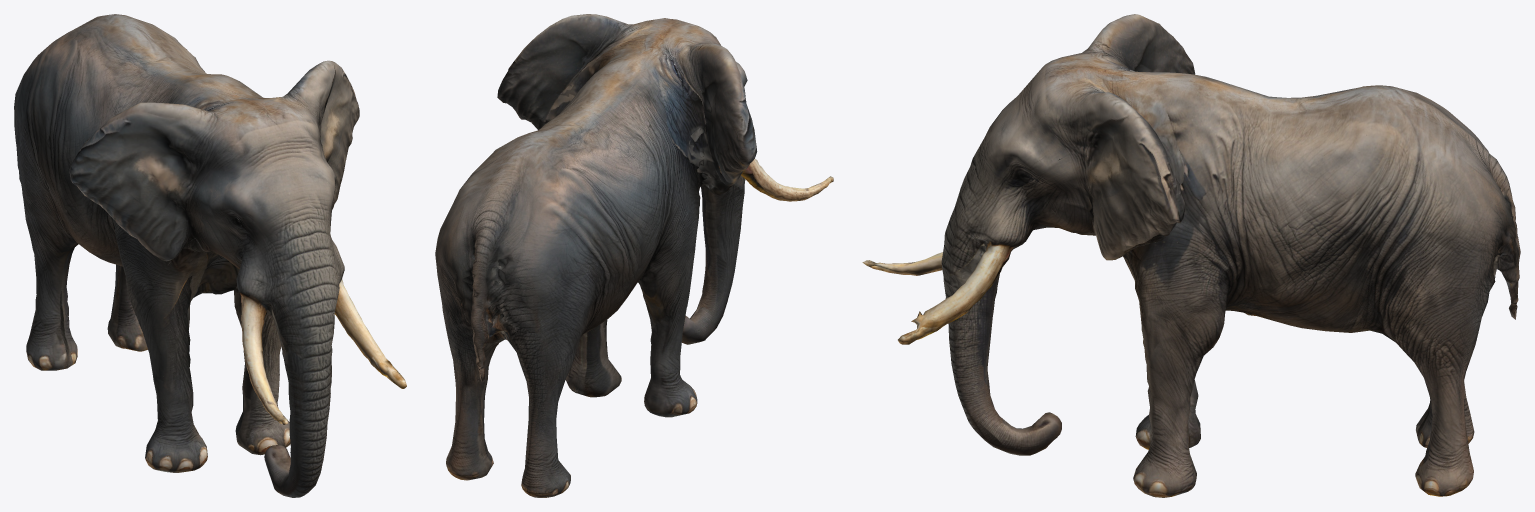
The model's file is eleph.glb.
3 views of the same model, side by side, from view 1: azimuth 30°, elevation 25°; view 2: azimuth 150°, elevation 25°; view 3: azimuth 270°, elevation 25° (orthographic). The views are drawn at different scales.
Size of the model in its own units: 0.6284 by 0.8244 by 1.2.
Materials: 1 (1 with a texture image).
